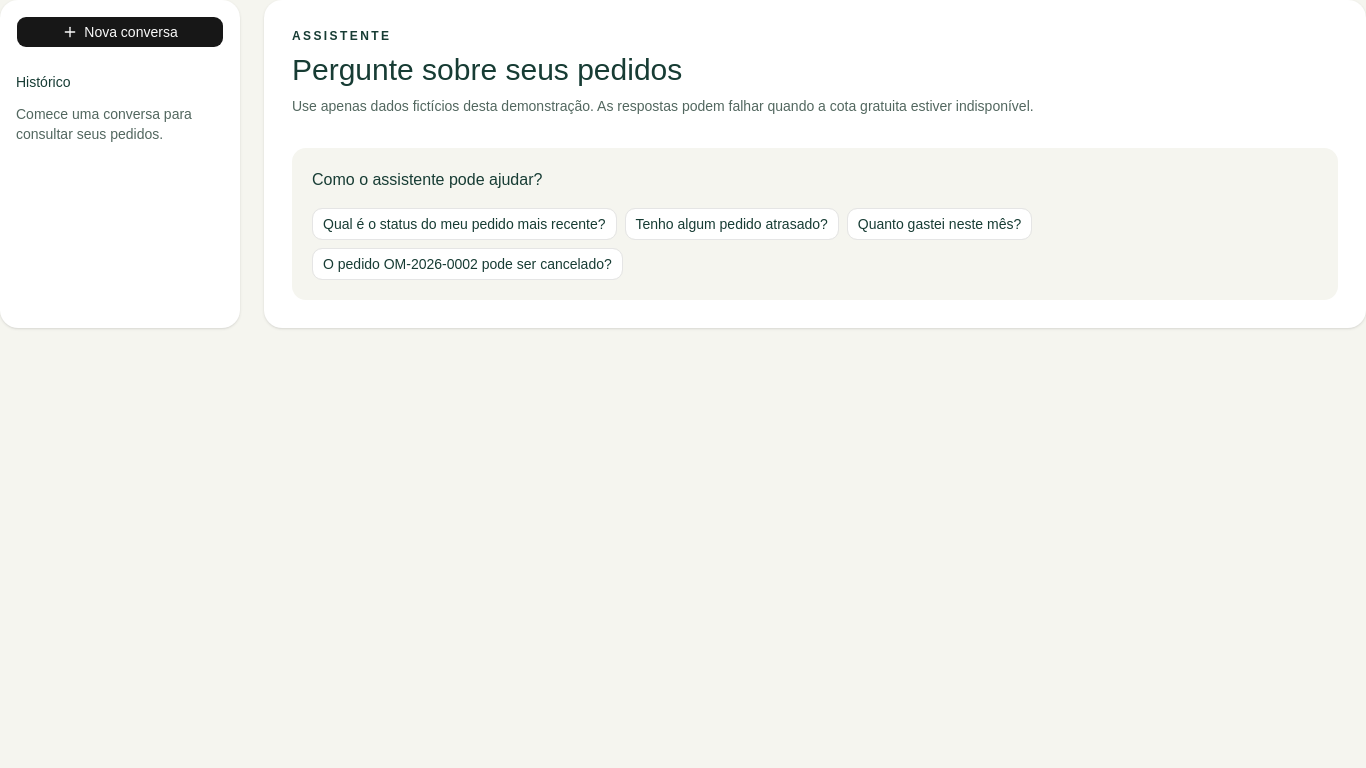
AssistantPage › creates a conversation, sends a question and reconciles a provider failure without retrying it
Click the button "Nova conversa": [120, 32] box [16,16,224,48]
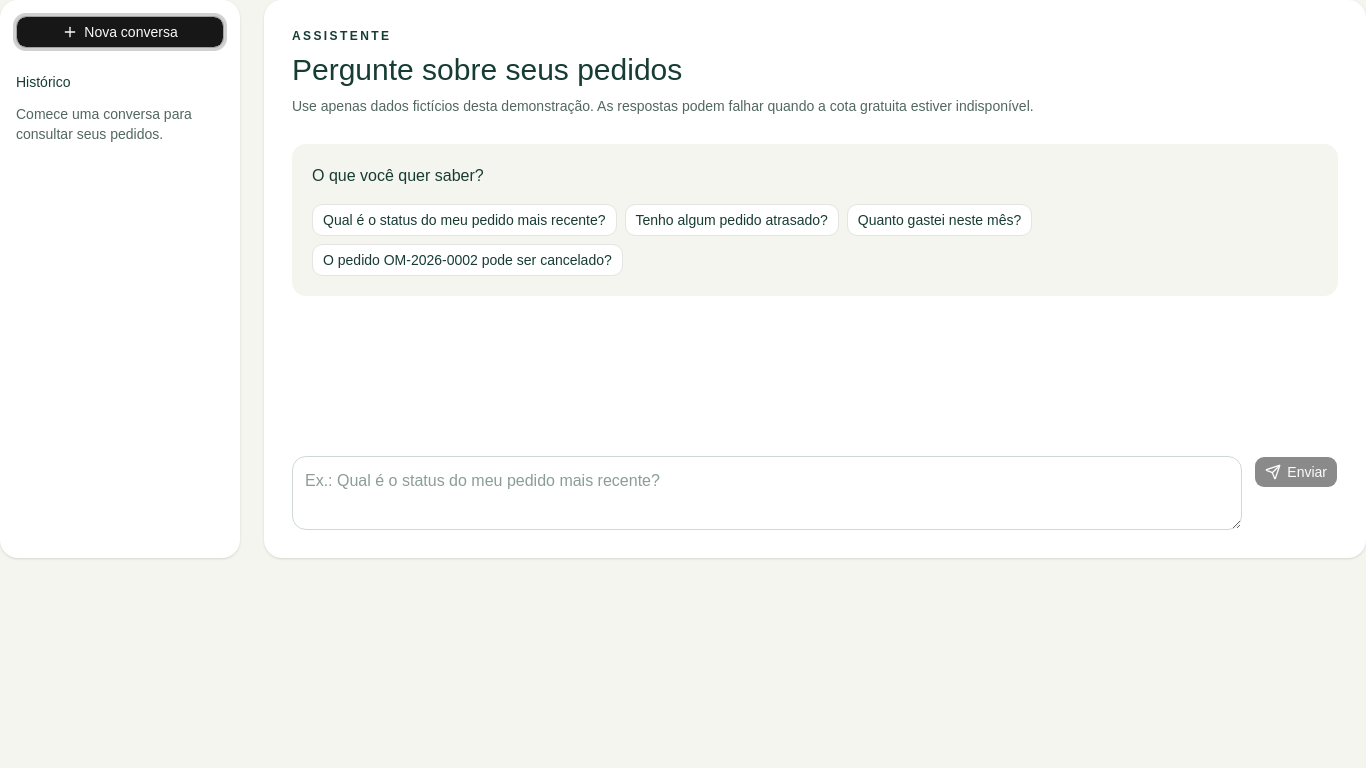
expect the heading "Pergunte sobre seus pedidos" is shown: met, box [292,53,682,86]
In the text box named "Sua pergunta": [767, 493] box [292,456,1242,530], type "Tenho pedidos atrasados?"
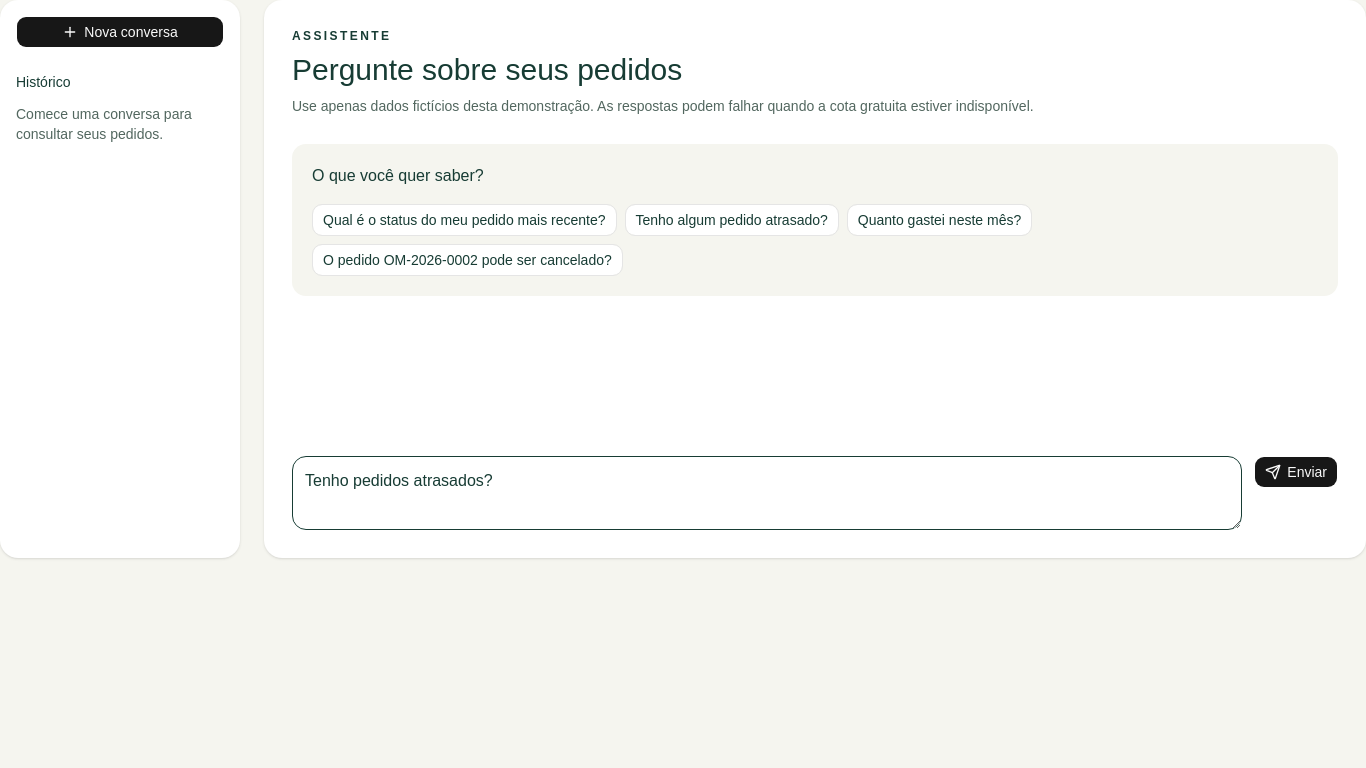
Click the button "Enviar": [1296, 472] box [1254,456,1338,488]
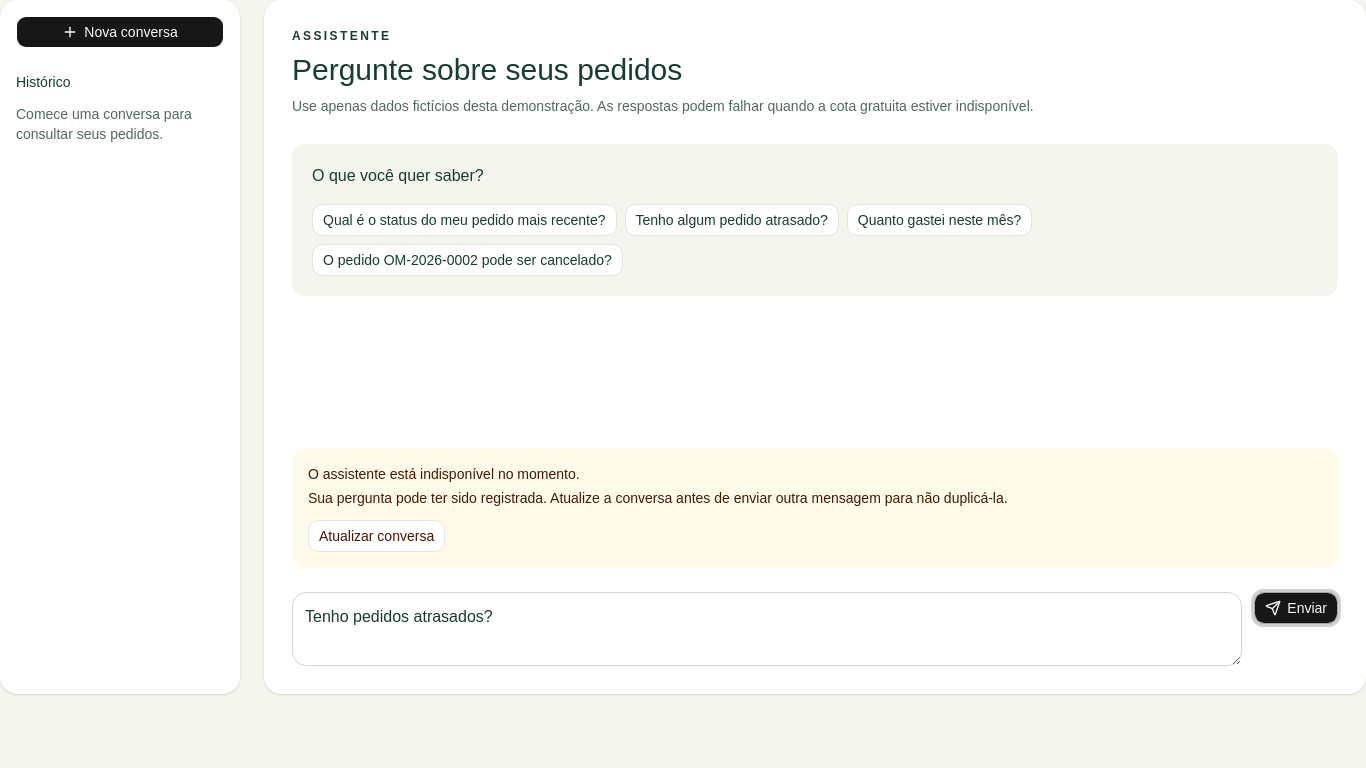
expect the message shows "Sua pergunta pode ter sido registrada": met, box [308,490,1008,506]
